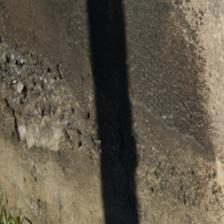Crack: (3, 52, 69, 106)
